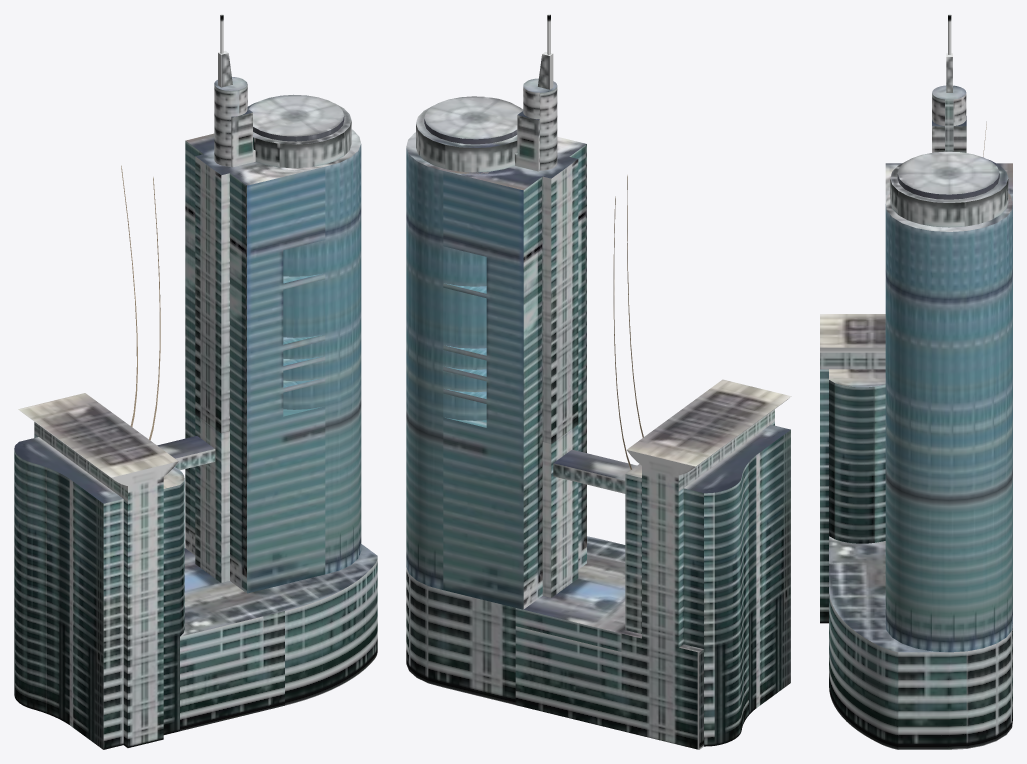
Rendered from information_hub_building_63851b14.glb.
3 views of the same model, side by side, from view 1: azimuth 30°, elevation 25°; view 2: azimuth 150°, elevation 25°; view 3: azimuth 270°, elevation 25° (orthographic). The views are drawn at different scales.
Parts seen in each view (by area): view 1: information_hub_building_63851b14; view 2: information_hub_building_63851b14; view 3: information_hub_building_63851b14.
Part boxes in pixels (x1,y1,x2,y2): information_hub_building_63851b14: (14,14,377,749); information_hub_building_63851b14: (406,14,791,749); information_hub_building_63851b14: (820,14,1012,749).
Size of the model in its own units: 132 by 253 by 66.1.
Materials: 1 (1 with a texture image).
